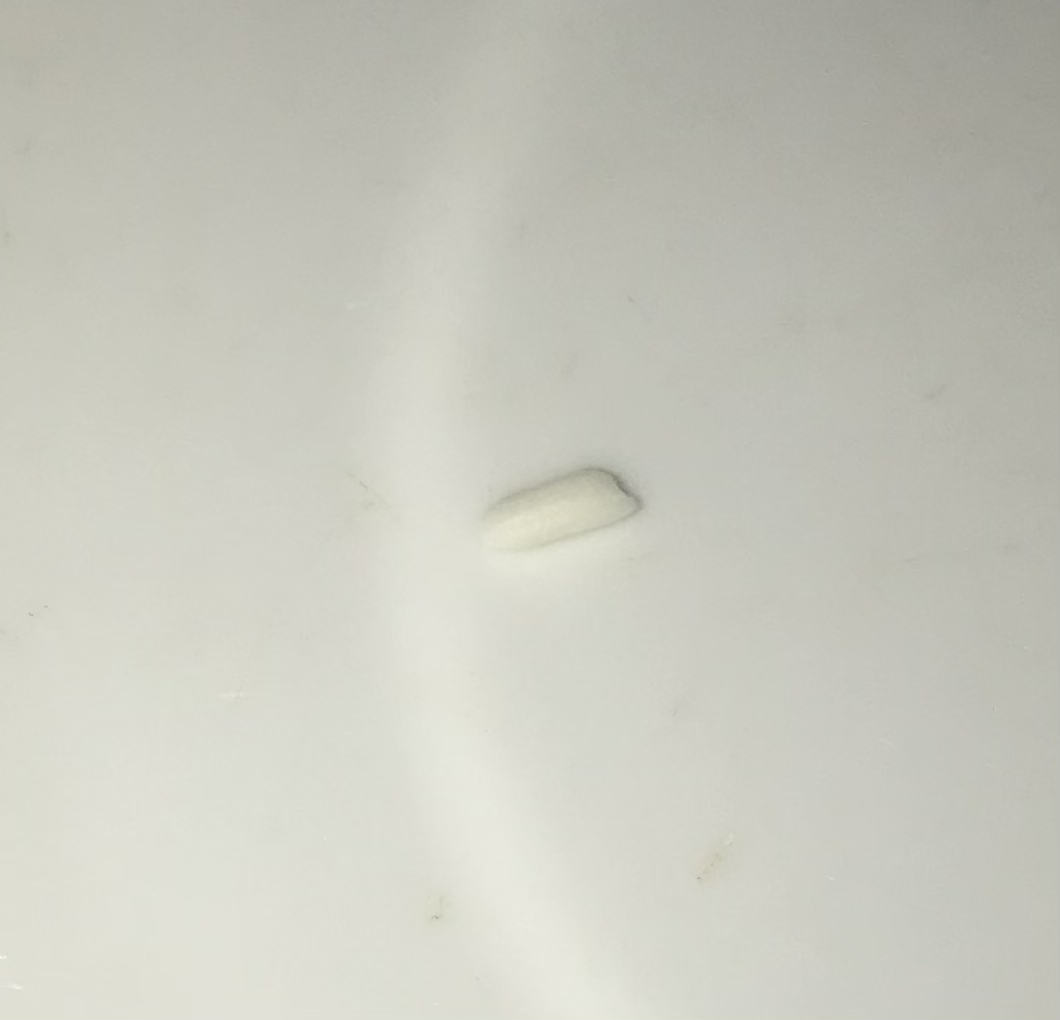Gao Nep Sap: (472, 451, 641, 579)
